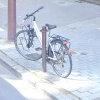bicycles: (14, 6, 73, 80)
